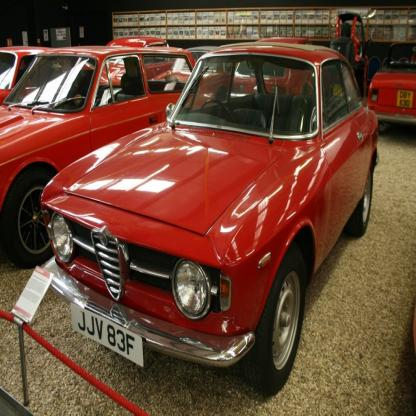Car: (1, 38, 416, 398)
